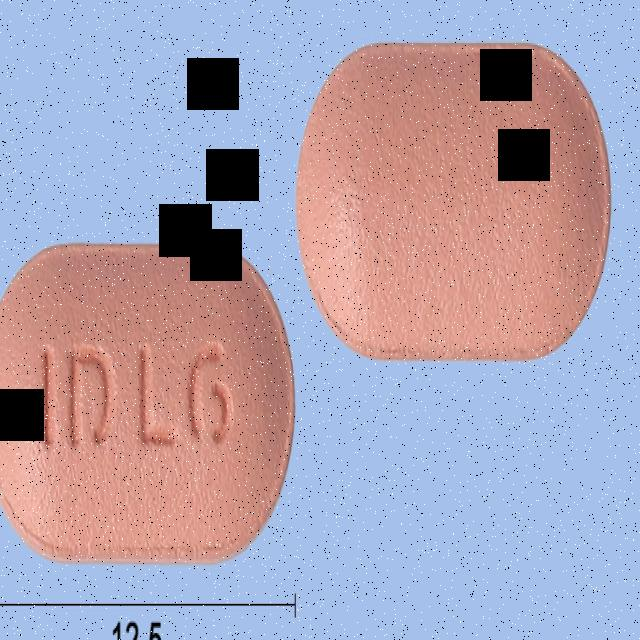Levofexin: (0, 244, 297, 563)
